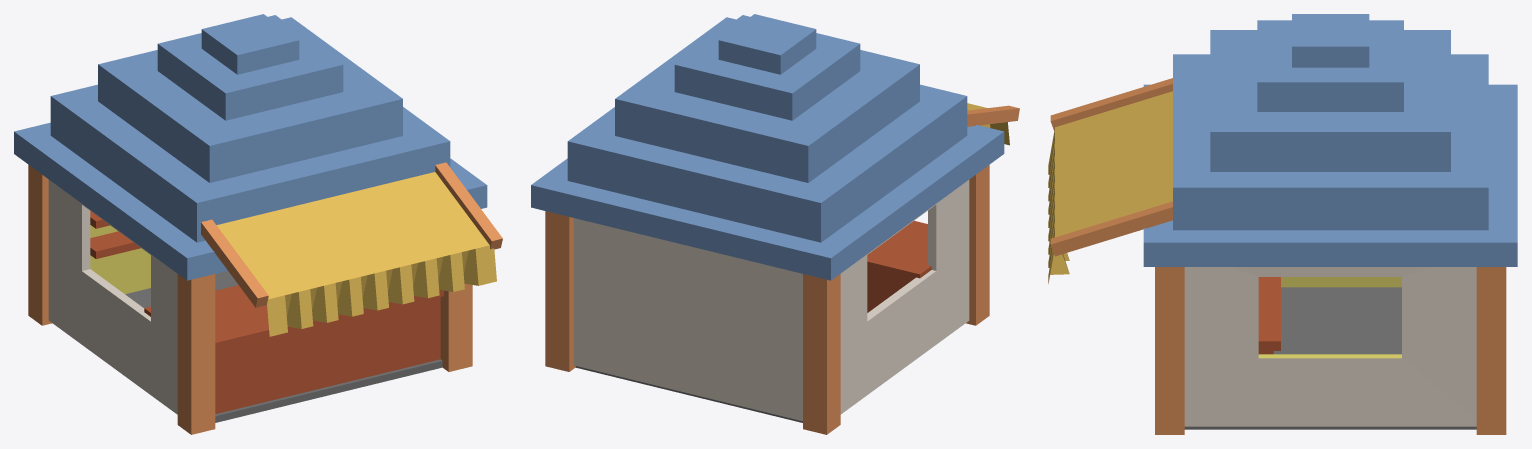
Rendered from ShopTest.fbx.
3 views of the same model, side by side, from view 1: azimuth 30°, elevation 25°; view 2: azimuth 150°, elevation 25°; view 3: azimuth 270°, elevation 25° (orthographic). The views are drawn at different scales.
Visible parts, largest first — view 1: Cube.006, Cube.008, Cube.005, Cube.003, Cube.001, Cube.007, Cube, Cube.009; view 2: Cube.006, Cube.003, Cube.001, Cube.005, Cube.007, Cube; view 3: Cube.006, Cube.003, Cube.008, Cube.001, Cube, Cube.007, Cube.005.
Boxes of the visible parts, x1,y1,x2,y2 form: Cube.006: (14,14,487,280); Cube.008: (216,172,496,336); Cube.005: (144,285,443,413); Cube.003: (48,179,177,414); Cube.001: (28,164,472,434); Cube.007: (201,162,502,307); Cube: (125,271,442,422); Cube.009: (90,231,140,258); Cube.006: (531,14,1004,280); Cube.003: (573,180,969,421); Cube.001: (545,165,989,434); Cube.005: (867,220,931,312); Cube.007: (967,105,1019,126); Cube: (575,366,802,422); Cube.006: (1143,14,1517,266); Cube.003: (1184,267,1476,426); Cube.008: (1048,91,1172,283); Cube.001: (1155,267,1506,434); Cube: (1184,287,1476,429); Cube.007: (1050,78,1172,256); Cube.005: (1258,277,1280,354).
Bounding box in the file's own units: 853 × 833 × 1071.
